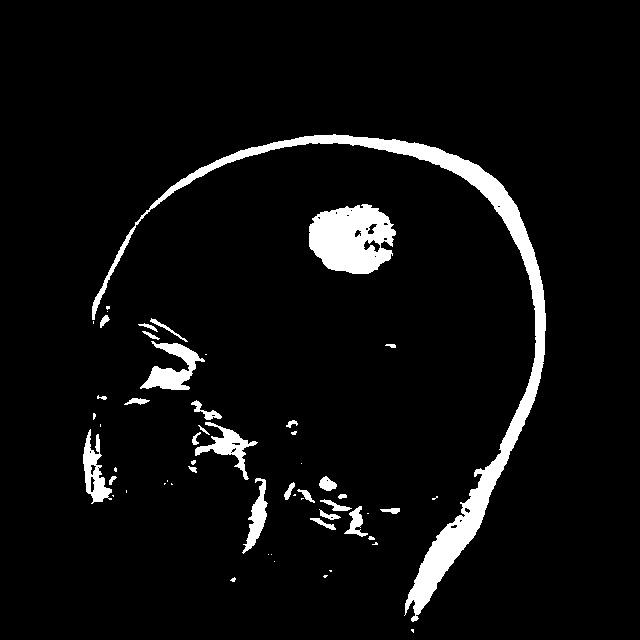Brain-Tumor: (298, 190, 412, 283)
